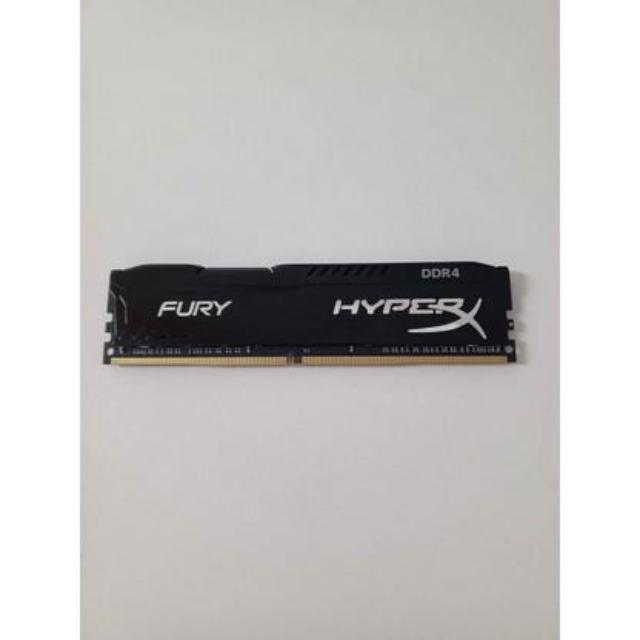RAM: (96, 247, 526, 396)
